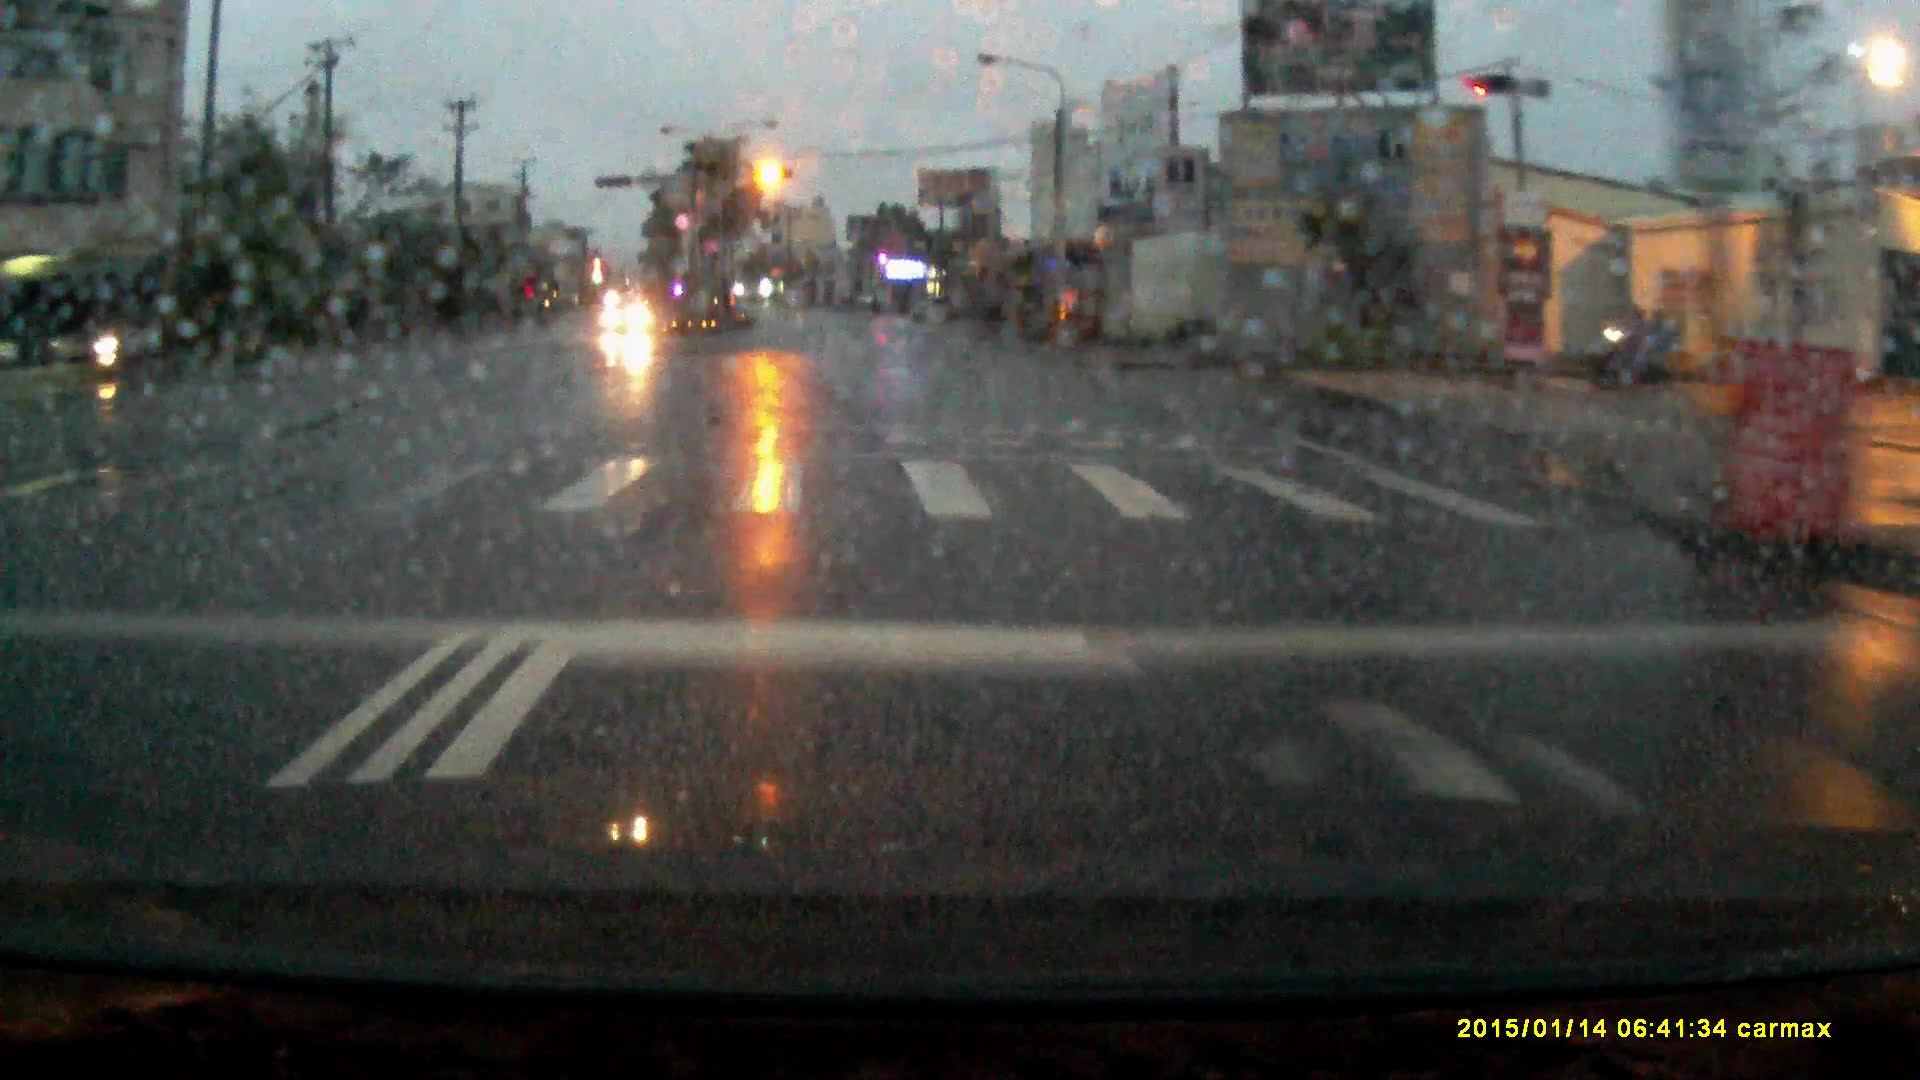rider: (1601, 293, 1677, 388), (87, 301, 136, 379)
vehicle: (604, 293, 657, 334)
